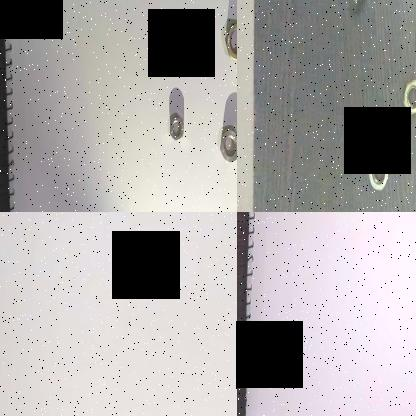NUTS: (366, 150, 390, 193), (217, 122, 237, 164), (222, 16, 237, 63), (401, 76, 416, 118), (167, 112, 186, 144), (345, 0, 369, 10)
